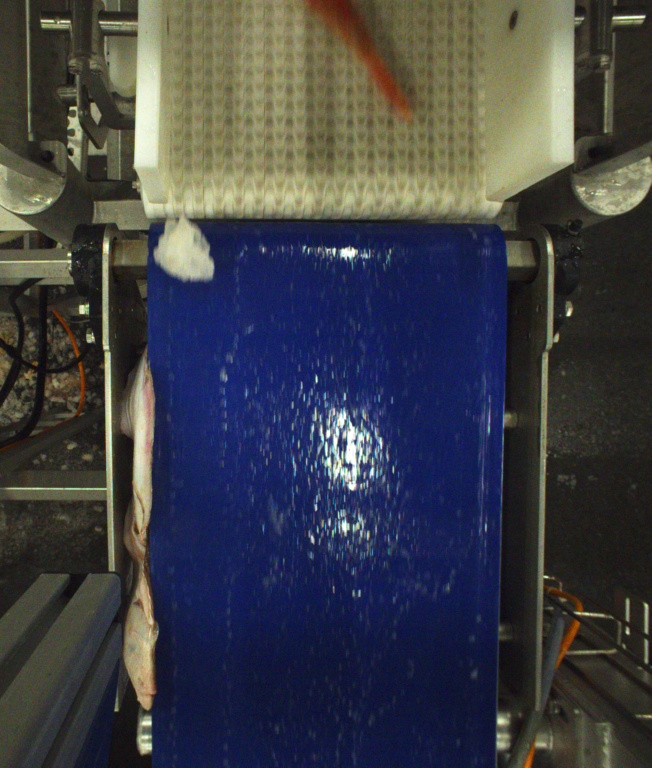GUU: (305, 0, 414, 115)
